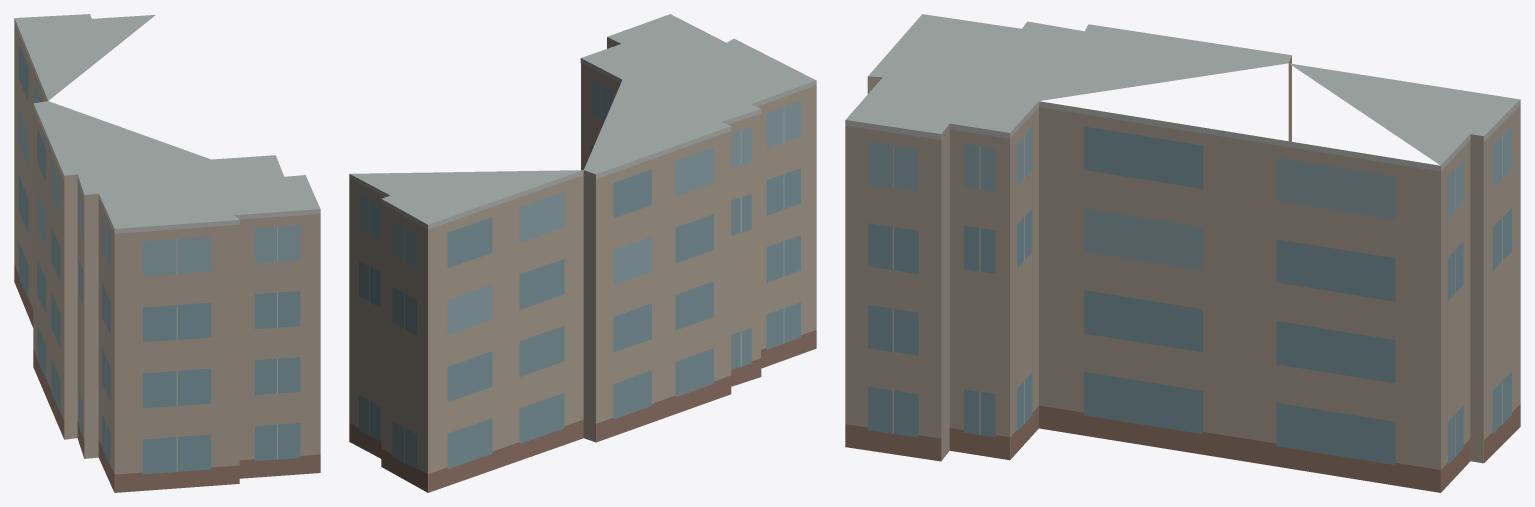
Rendered from survey-upis-32473434.glb.
3 views of the same model, side by side, from view 1: azimuth 30°, elevation 25°; view 2: azimuth 150°, elevation 25°; view 3: azimuth 270°, elevation 25° (orthographic). The views are drawn at different scales.
Visible parts, largest first — view 1: survey-upis-32473434.tmp; view 2: survey-upis-32473434.tmp; view 3: survey-upis-32473434.tmp.
Part boxes in pixels (left/top/right/bottom): survey-upis-32473434.tmp: left=14, top=14, right=320, bottom=492; survey-upis-32473434.tmp: left=349, top=14, right=816, bottom=492; survey-upis-32473434.tmp: left=845, top=14, right=1520, bottom=492.
Size of the model in its own units: 13.5 by 13.57 by 25.39.
